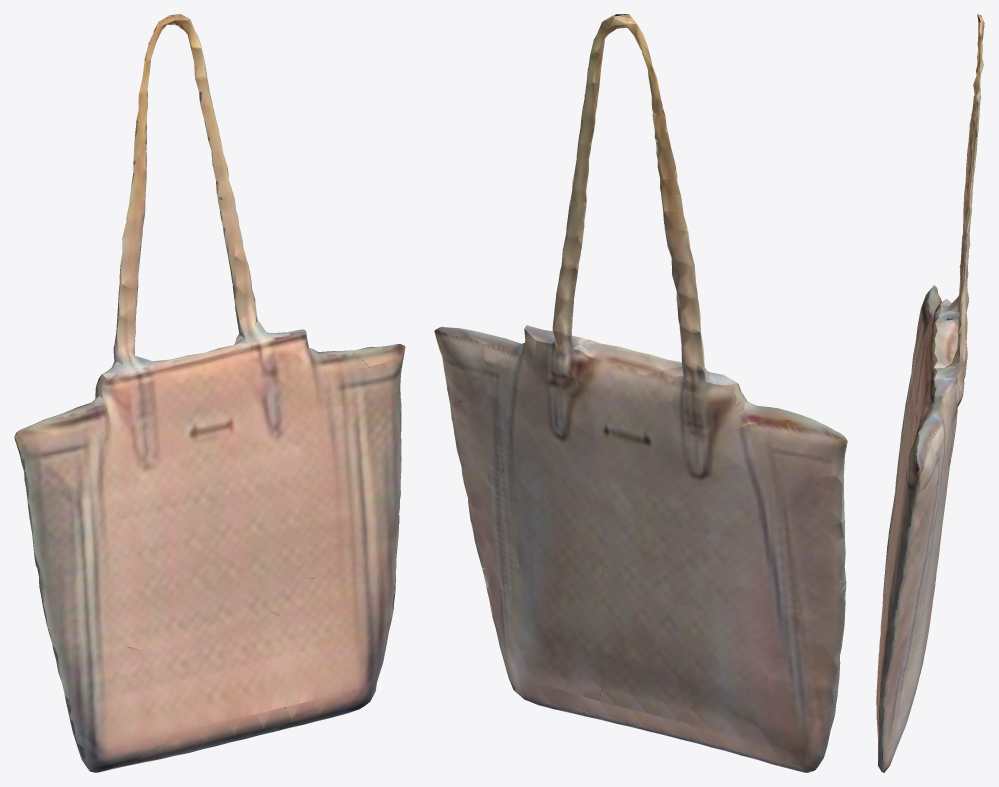
3 renders of one model, left to right at view 1: azimuth 30°, elevation 25°; view 2: azimuth 150°, elevation 25°; view 3: azimuth 270°, elevation 25°, orthographic. The views are drawn at different scales.
Visible parts, largest first — view 1: world; view 2: world; view 3: world.
Boxes of the visible parts, bbox=[...] form: world: bbox=[14, 14, 405, 772]; world: bbox=[434, 14, 847, 772]; world: bbox=[876, 14, 984, 772].
Bounding box in the file's own units: 0.5851 × 1.01 × 0.1435.
Materials: 1 (1 with a texture image).
